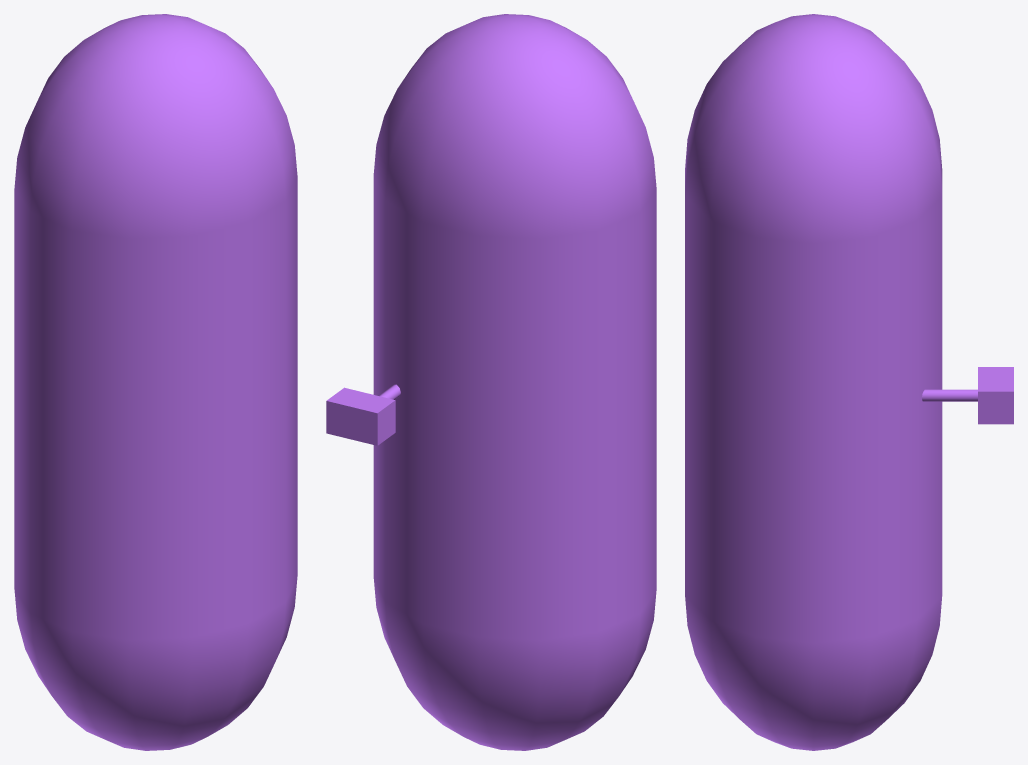
The model's file is enemy-playground-bellwether-brute-v1.glb.
The picture shows the model from 3 angles, left to right: view 1: azimuth 30°, elevation 25°; view 2: azimuth 150°, elevation 25°; view 3: azimuth 270°, elevation 25°; orthographic projection.
Parts seen in each view (by area): view 1: Bellwether Brute; view 2: Bellwether Brute; view 3: Bellwether Brute.
Part boxes in pixels (box(x1,y1,x2,y2)): Bellwether Brute: box(14, 14, 297, 750); Bellwether Brute: box(326, 14, 656, 750); Bellwether Brute: box(685, 14, 1013, 750).
Bounding box in the file's own units: 2.25 × 6.16 × 2.57.
